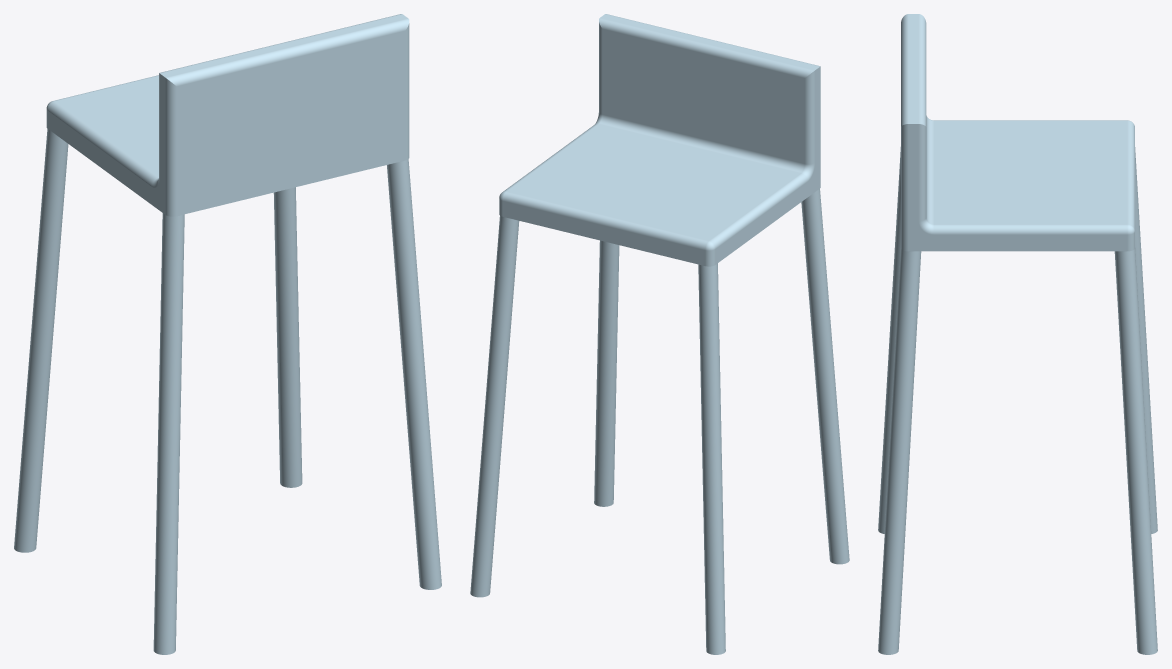
The model's file is chair.gltf.
The picture shows the model from 3 angles, left to right: view 1: azimuth 30°, elevation 25°; view 2: azimuth 150°, elevation 25°; view 3: azimuth 270°, elevation 25°; orthographic projection. The views are drawn at different scales.
Parts seen in each view (by area): view 1: chair; view 2: chair; view 3: chair.
Part boxes in pixels (box(x1,y1,x2,y2)): chair: box(14, 14, 441, 654); chair: box(470, 14, 849, 654); chair: box(878, 14, 1157, 654).
Size of the model in its own units: 0.1175 by 0.221 by 0.1075.
